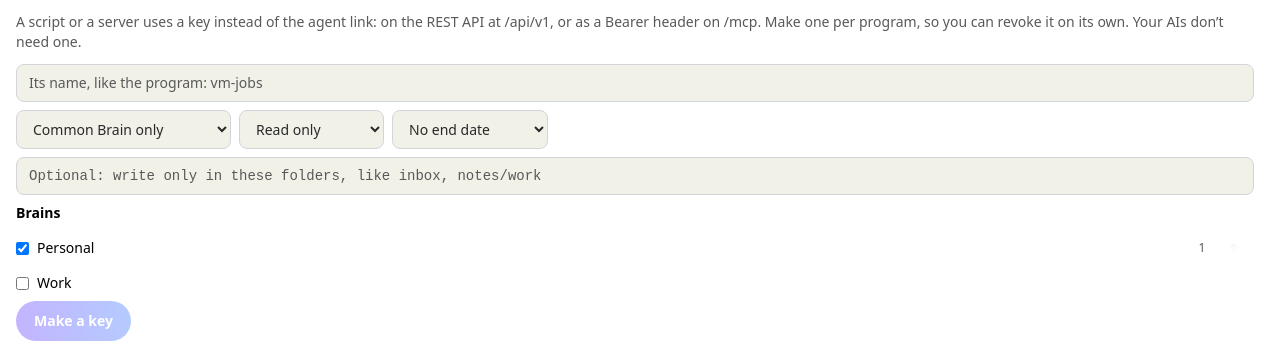
Test: offers folders only while the key carries exactly one brain
The image size is (1271, 358).
Expected: the field named "Folders" is shown, [16, 157, 1254, 195]
Click the checkbox labelled "Personal" at [22, 248], box [16, 242, 29, 254]
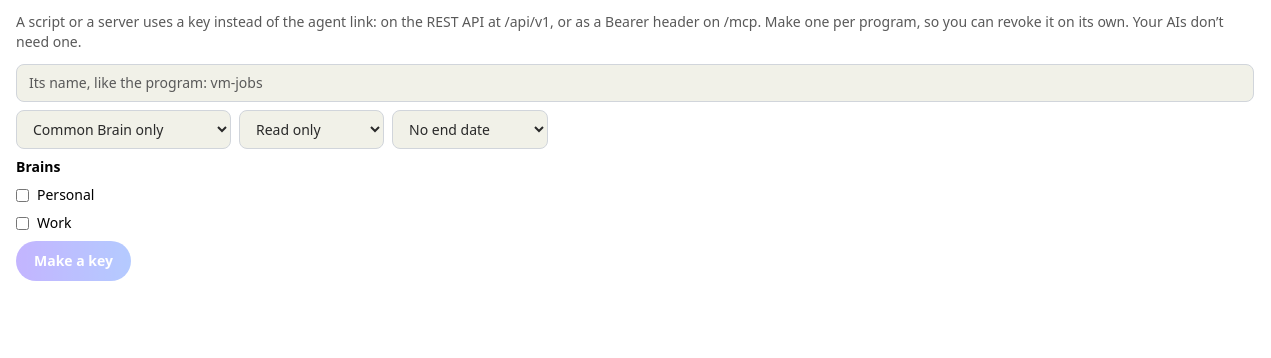
Expected: the field named "Folders" is gone
Click the checkbox labelled "Work" at [22, 223], box [16, 216, 29, 230]
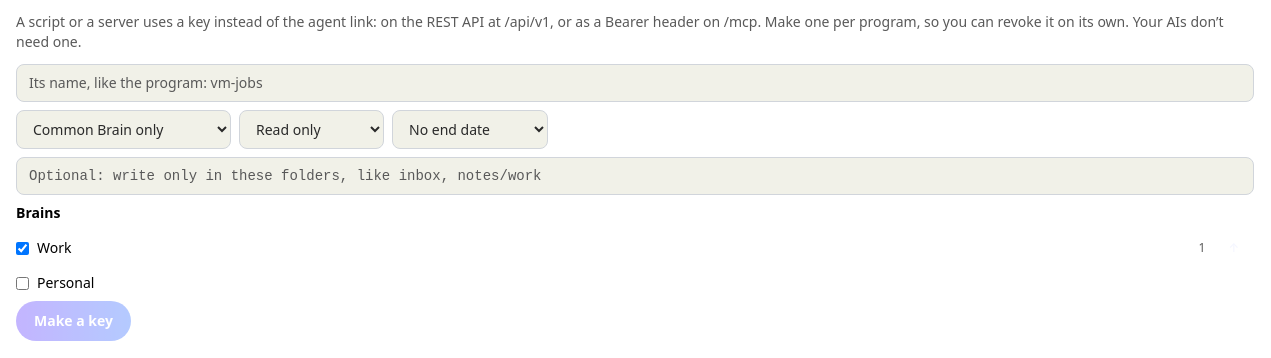
Expected: the field named "Folders" is shown, [16, 157, 1254, 195]
